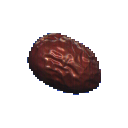gd: (17, 19, 112, 118)
